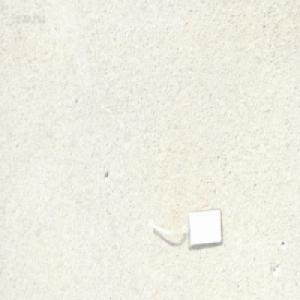LuggageTag: (145, 206, 222, 248)
